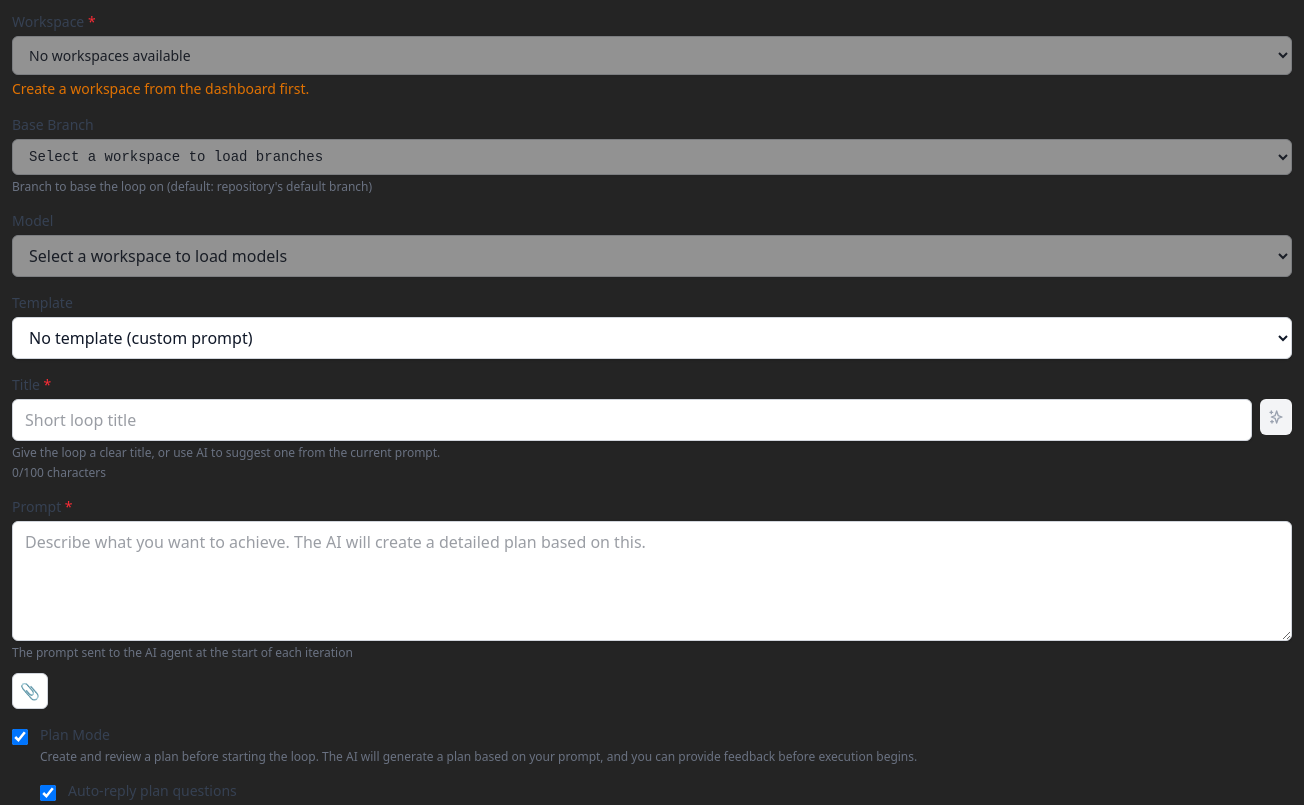
Test: CreateLoopForm › prompt › shows execution placeholder when plan mode is off
# Toggle plan mode off
Click the checkbox labelled "Plan Mode".
click(20, 737)  # box [12,729,28,745]
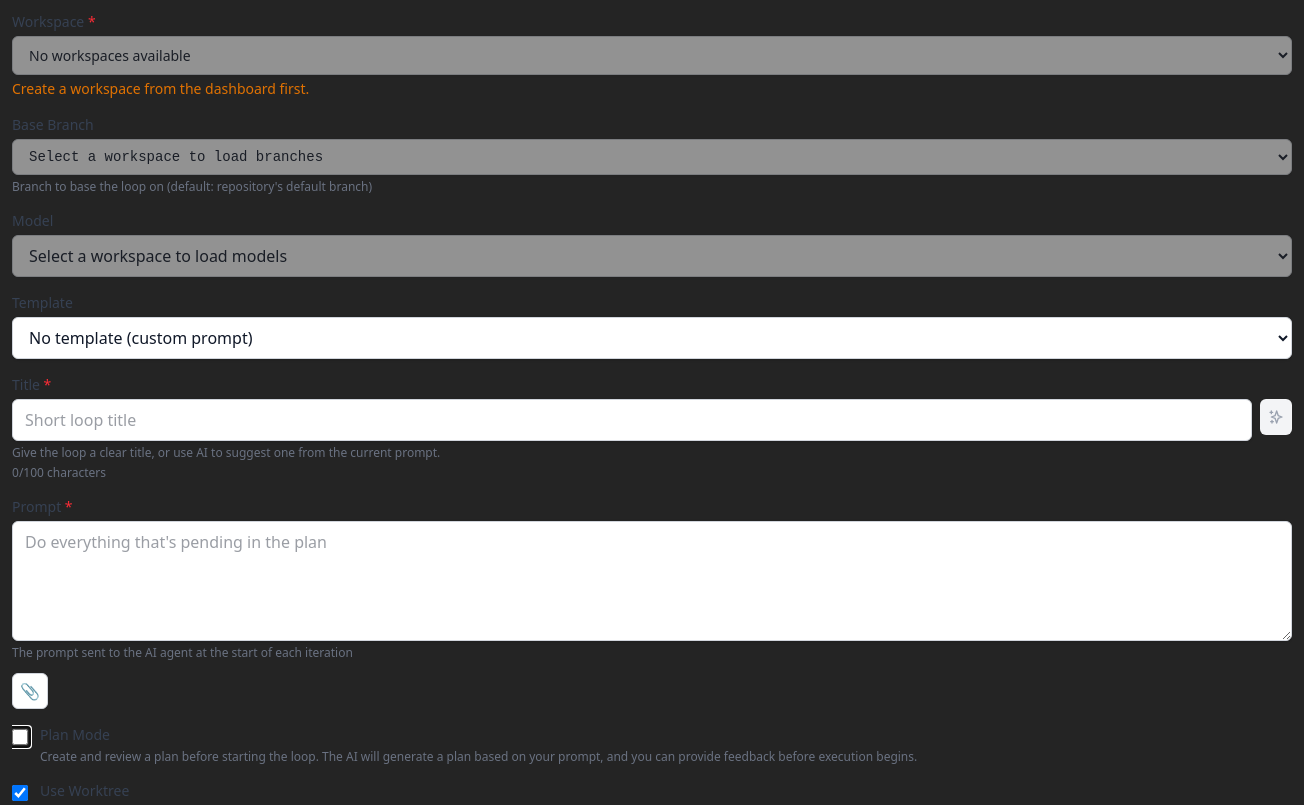
expect the text box with placeholder "Do everything that's pending in the plan" is shown: met, box [12,521,1292,641]
